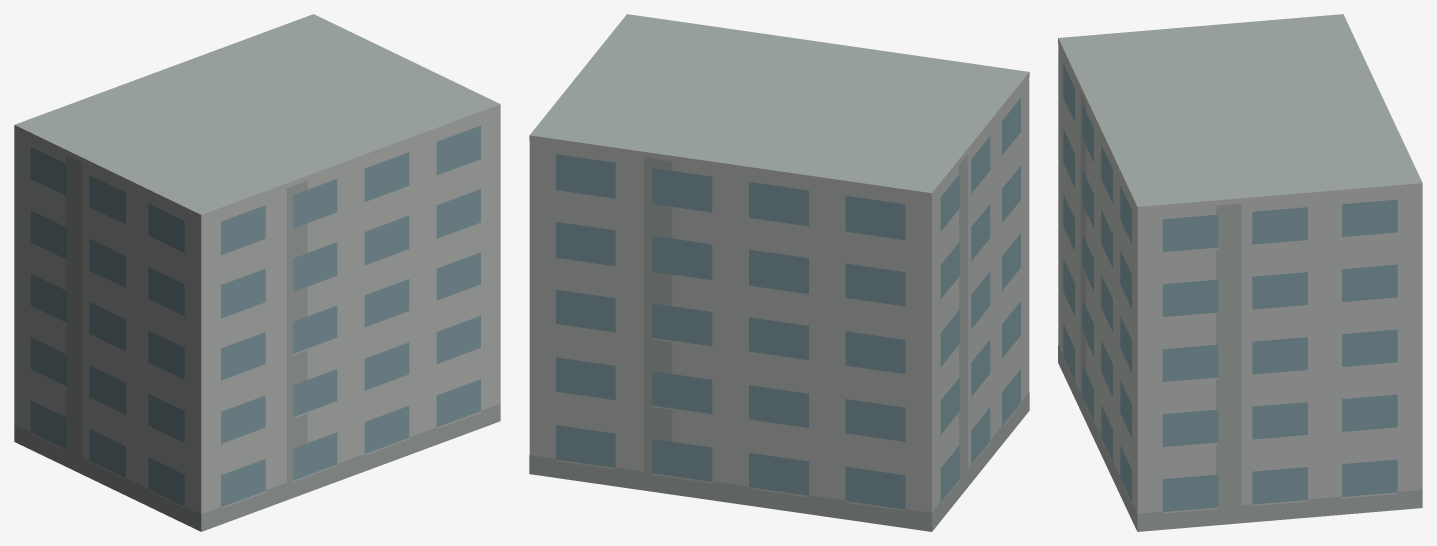
File: residential-fae0e63e-96cd-4f2c-9ca8-0ea483cd258f.glb
3 views of the same model, side by side, from view 1: azimuth 30°, elevation 25°; view 2: azimuth 150°, elevation 25°; view 3: azimuth 270°, elevation 25° (orthographic). The views are drawn at different scales.
Visible parts, largest first — view 1: residential-fae0e63e-96cd-4f2c-9ca8-0ea483cd258f.tmp; view 2: residential-fae0e63e-96cd-4f2c-9ca8-0ea483cd258f.tmp; view 3: residential-fae0e63e-96cd-4f2c-9ca8-0ea483cd258f.tmp.
Part boxes in pixels (x1,y1,x2,y2): residential-fae0e63e-96cd-4f2c-9ca8-0ea483cd258f.tmp: (14, 14, 500, 531); residential-fae0e63e-96cd-4f2c-9ca8-0ea483cd258f.tmp: (529, 14, 1029, 531); residential-fae0e63e-96cd-4f2c-9ca8-0ea483cd258f.tmp: (1058, 14, 1422, 531).
Size of the model in its own units: 19.44 by 15.25 by 15.52.
